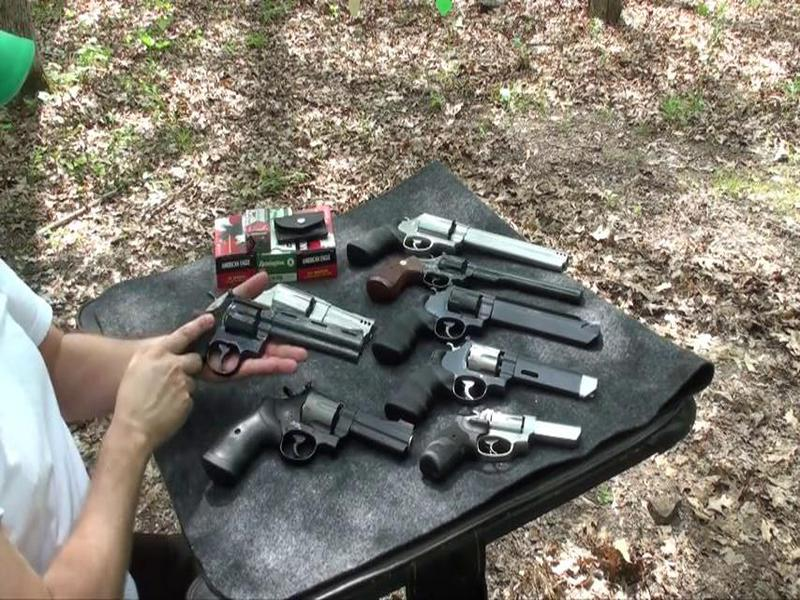Revolver: (162, 289, 386, 396)
